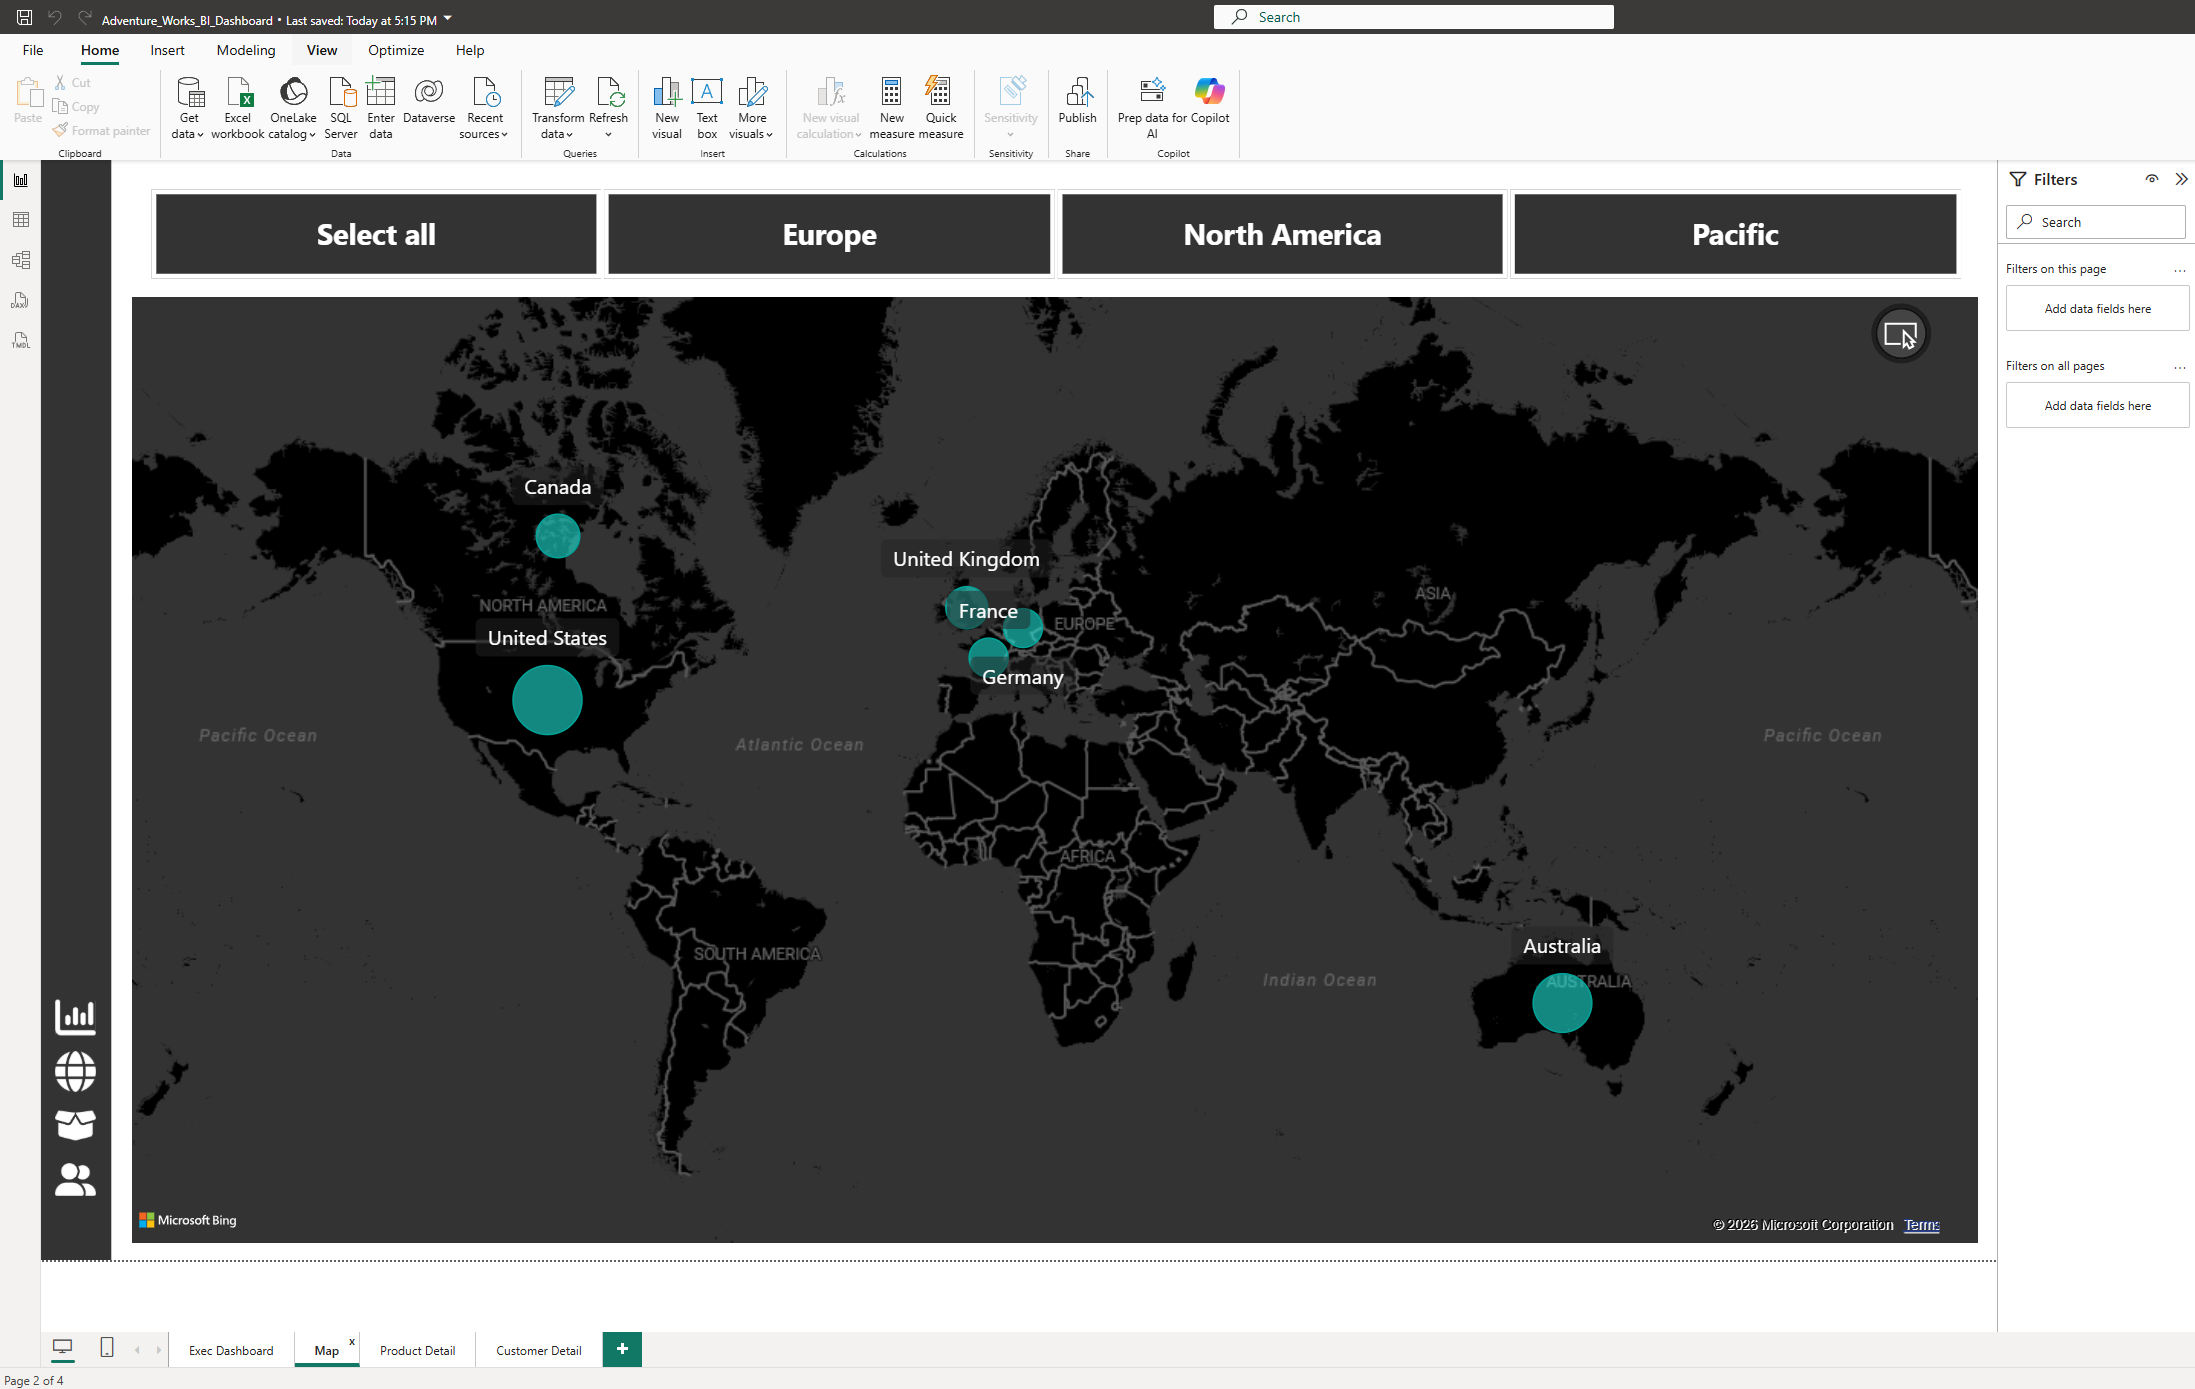

The dashboard page shown, as its layout file describes it:
{"tool":"powerbi","page":{"name":"Map","canvas":[1280,720],"ordinal":1},"visuals":[{"type":"shape","box":[0,0,46.4,720],"z":0},{"type":"actionButton","box":[5,543.7,36.6,34.7],"z":0,"group":"g1"},{"type":"map","fields":{"Category":["Territory Lookup.Country"],"Size":["Measure Table.Total Orders"]},"box":[54.3,84.4,1218.5,628.9],"z":1000},{"type":"actionButton","box":[5,579,36.6,34.7],"z":1000,"group":"g1"},{"type":"slicer","fields":{"Values":["Territory Lookup.Continent"]},"box":[46.5,12.4,1233.5,72],"z":2000},{"type":"actionButton","box":[5,614.4,36.6,34.7],"z":2000,"group":"g1"},{"type":"group","id":"g1","title":"Navigation Buttons","box":[5,543.7,36.8,141.3],"z":3000},{"type":"actionButton","box":[5,649.7,36.6,34.7],"z":3000,"group":"g1"}]}

Visuals, with their boxes on the page's 1280x720 design canvas (x1, y1, x2, y2). These are canvas units, not pixel positions in the 2195x1389 screenshot, which may show the page scaled, cropped or inside an application window:
shape: <box>0,0,46,720</box>
actionButton: <box>5,544,42,578</box>
map - Territory Lookup.Country x Measure Table.Total Orders: <box>54,84,1273,713</box>
actionButton: <box>5,579,42,614</box>
slicer - Territory Lookup.Continent: <box>46,12,1280,84</box>
actionButton: <box>5,614,42,649</box>
"Navigation Buttons" group: <box>5,544,42,685</box>
actionButton: <box>5,650,42,684</box>
